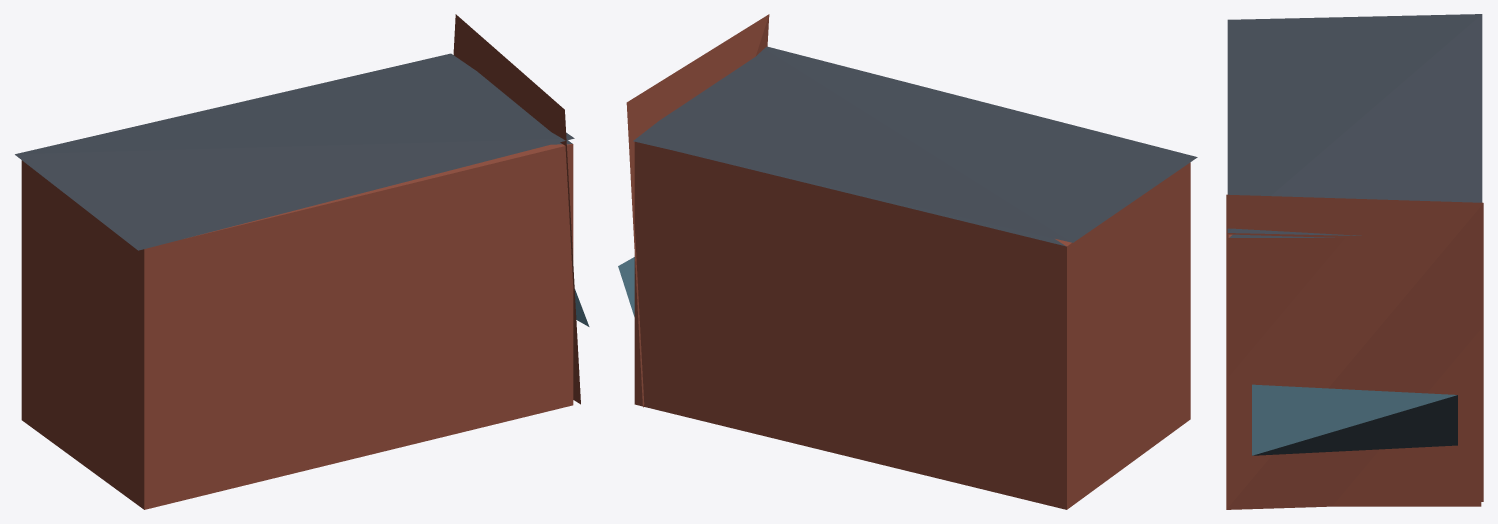
The model's file is rialto.lod2.glb.
3 renders of one model, left to right at view 1: azimuth 30°, elevation 25°; view 2: azimuth 150°, elevation 25°; view 3: azimuth 270°, elevation 25°, orthographic. The views are drawn at different scales.
Visible parts, largest first — view 1: lod2; view 2: lod2; view 3: lod2.
Boxes of the visible parts, <box> form: lod2: <box>15,14,589,509</box>; lod2: <box>618,14,1197,509</box>; lod2: <box>1226,14,1483,509</box>.
Bounding box in the file's own units: 25.78 × 15.9 × 12.09.
